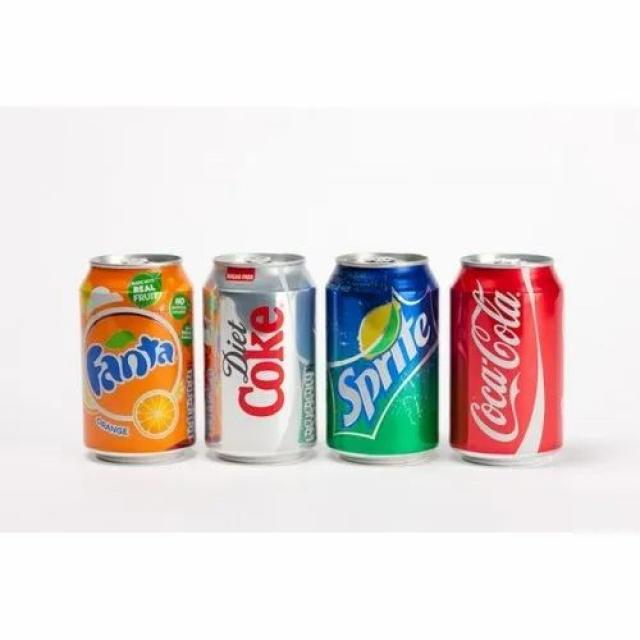Cans: (447, 246, 572, 470), (322, 248, 446, 468), (76, 250, 200, 468), (197, 251, 321, 468)
